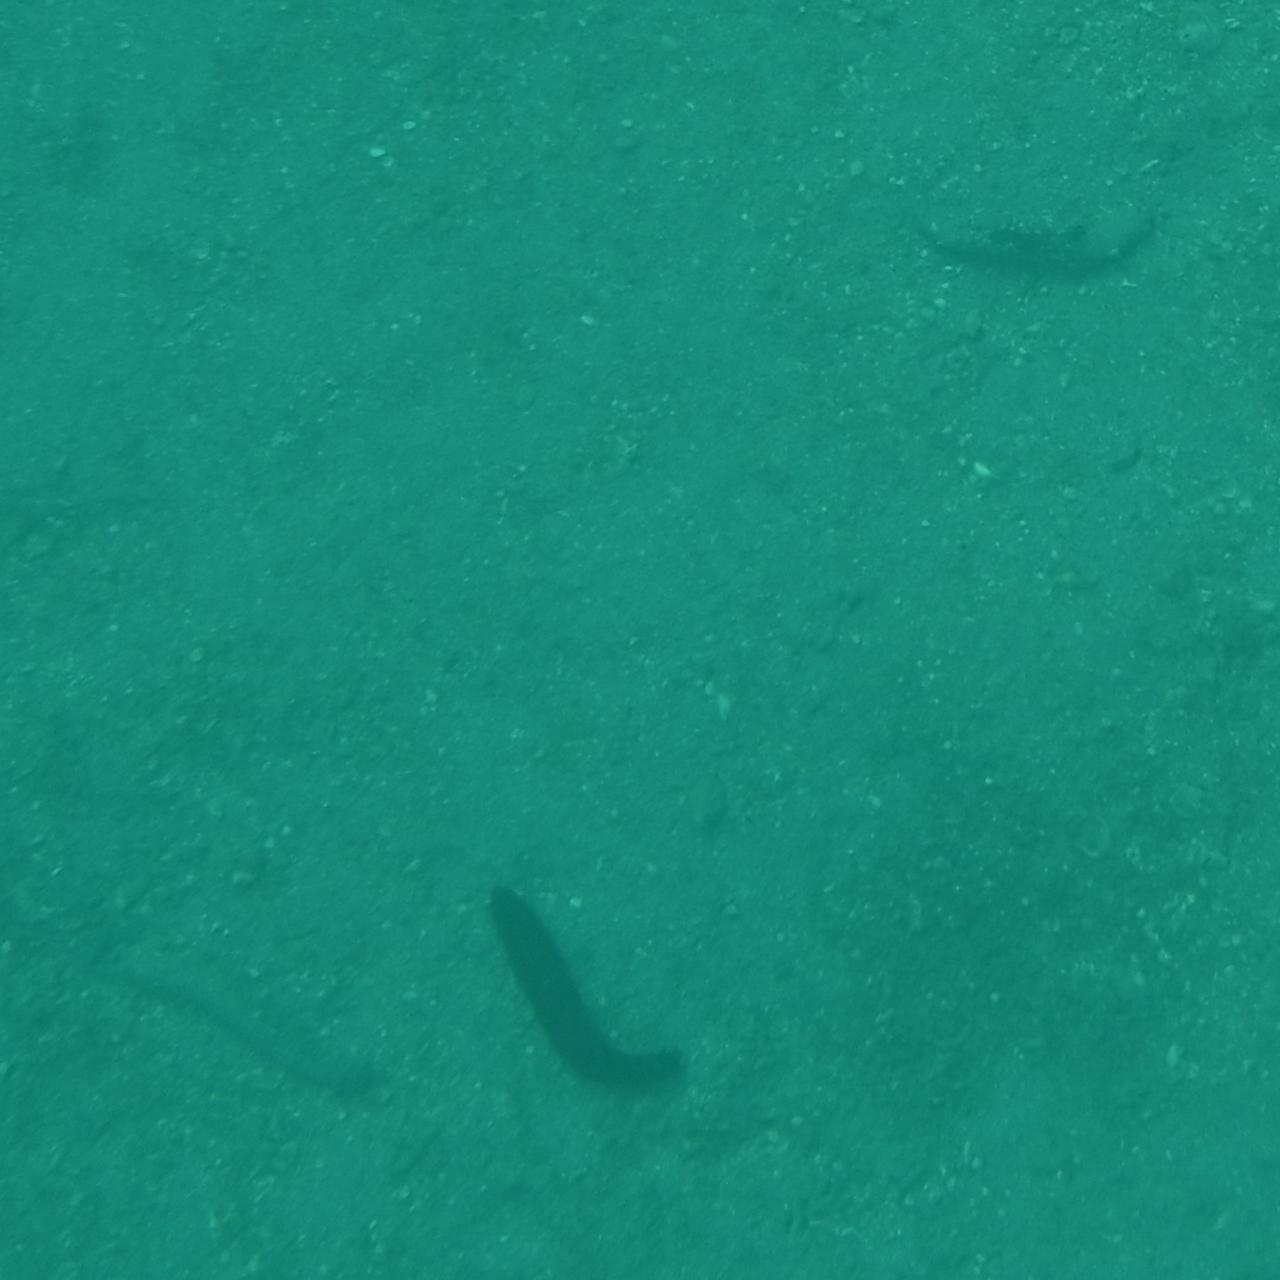Holothuria tubulosa: (43, 947, 411, 1132), (486, 870, 713, 1102), (896, 186, 1212, 297)
